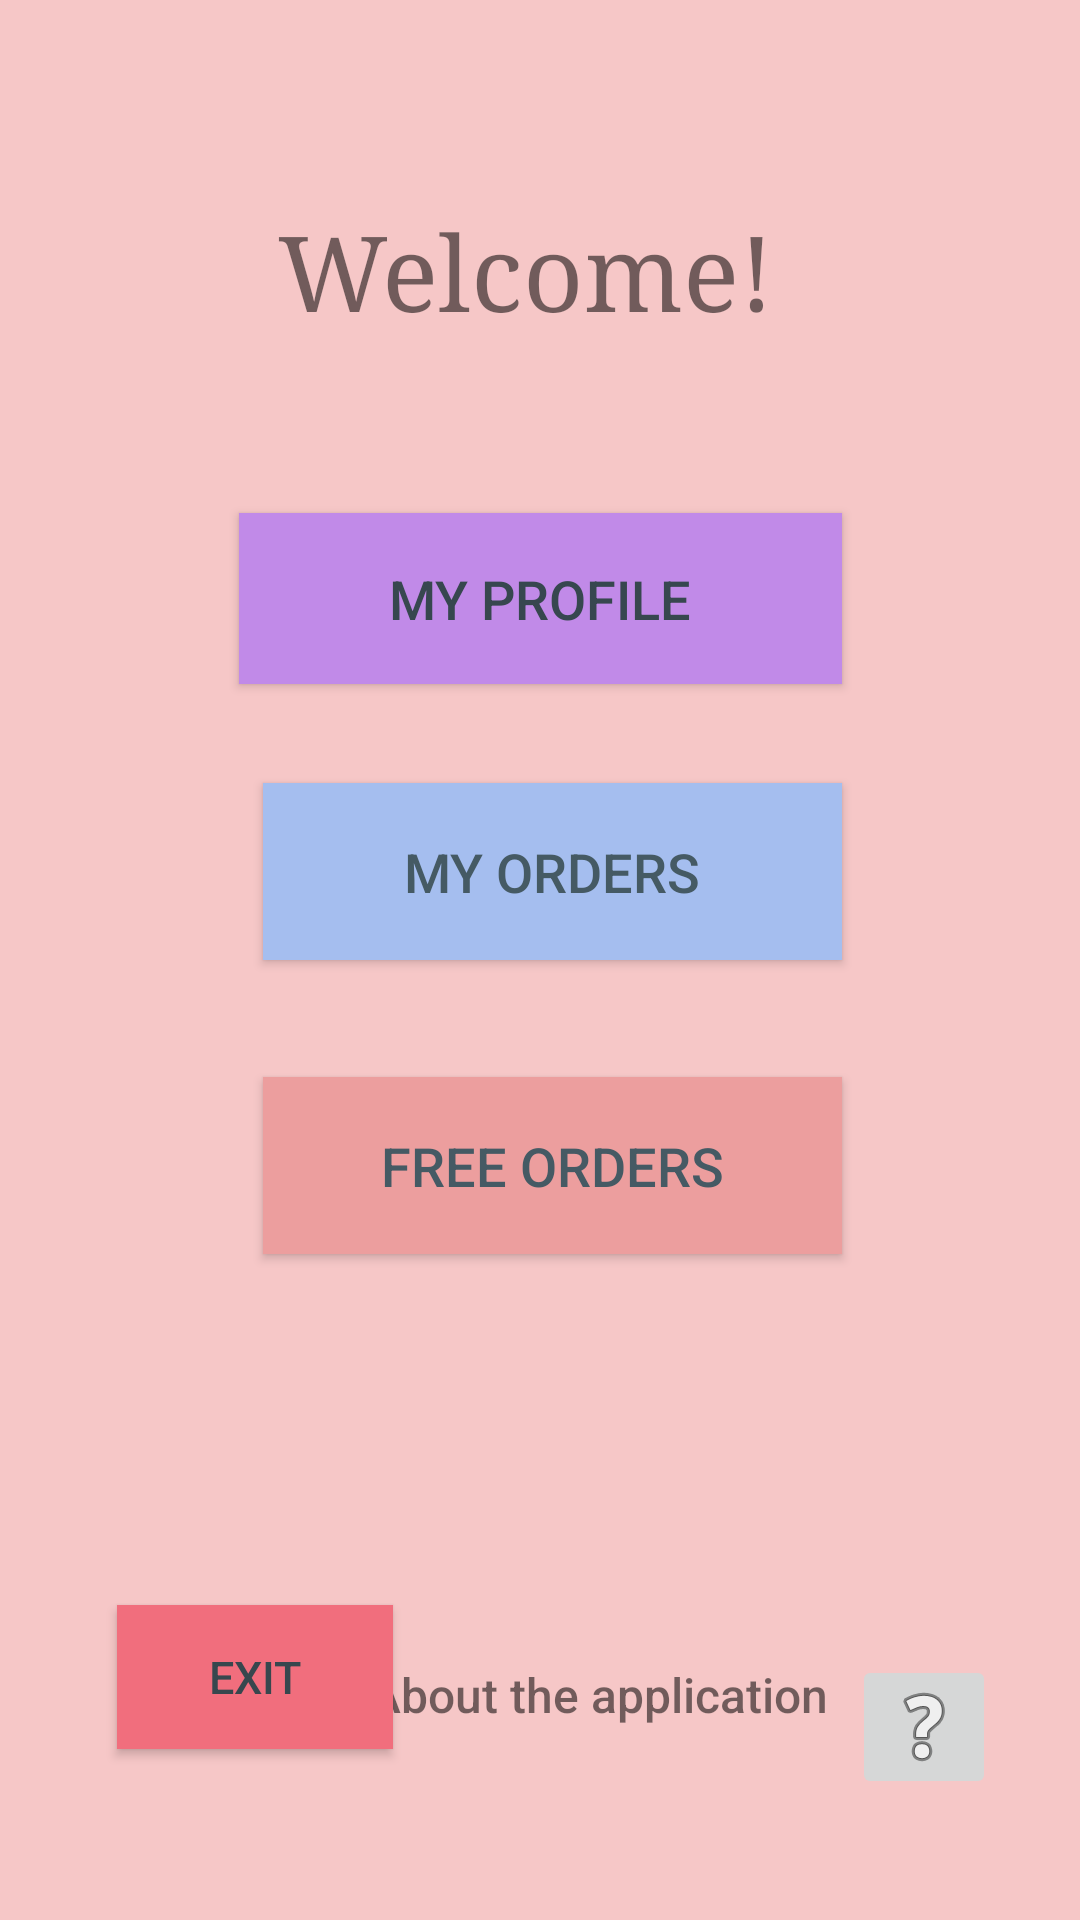

Icons on this 1080 x 1920 Android screen, each with the point to tap as [x,y]:
help: [924,1727]
